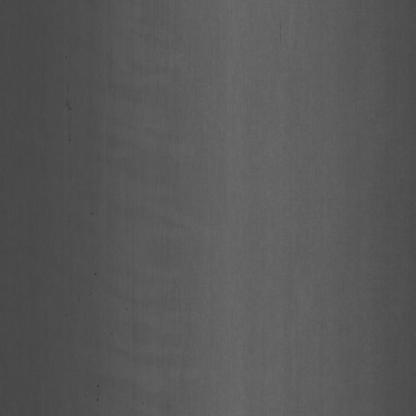inclusion: (86, 262, 99, 284), (66, 134, 73, 150)
